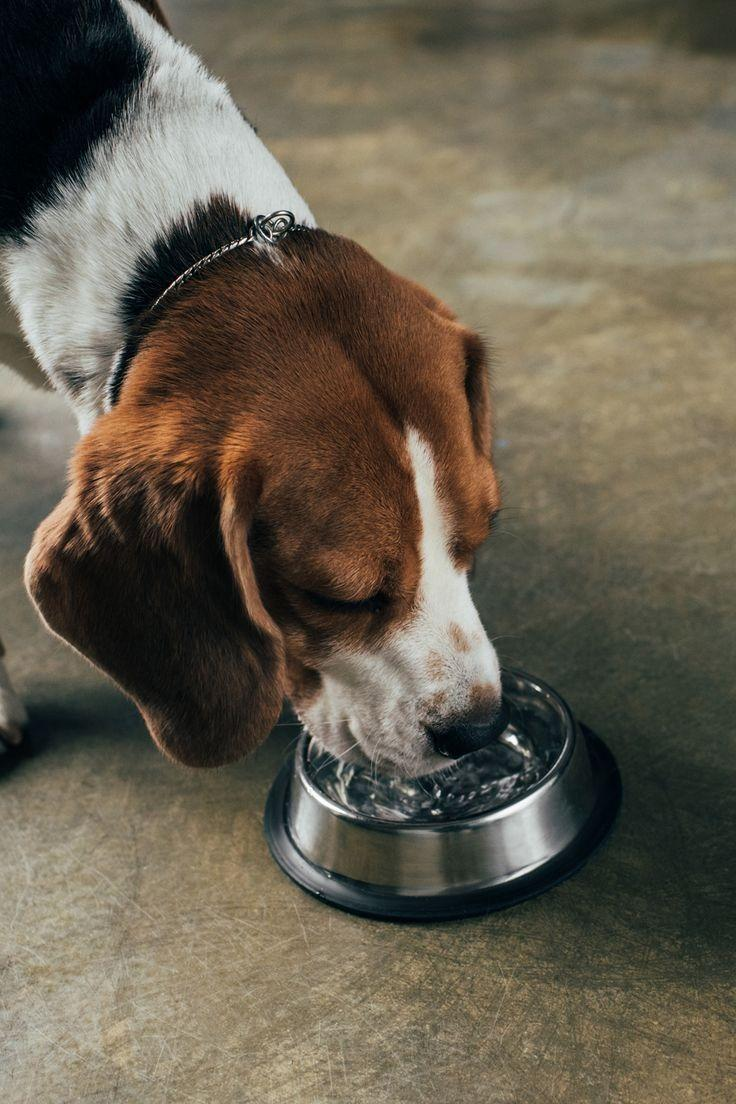adult_dog: (0, 0, 511, 780)
